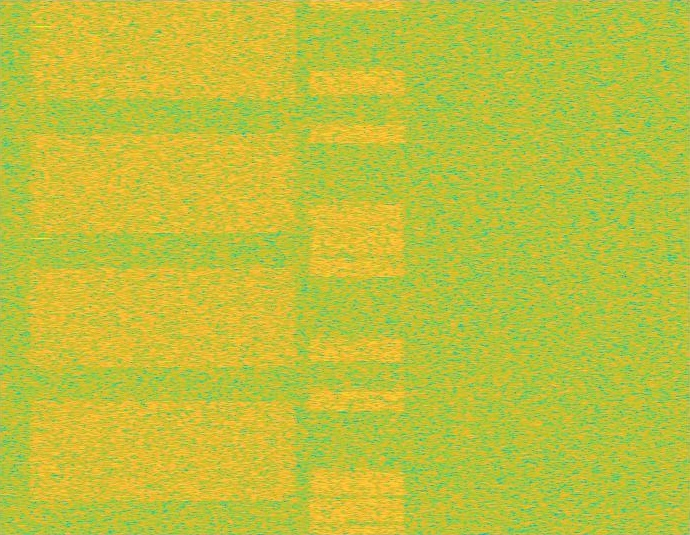5G: (25, 0, 301, 534)
LTE: (305, 0, 409, 534)
Radar: (35, 0, 49, 534)
